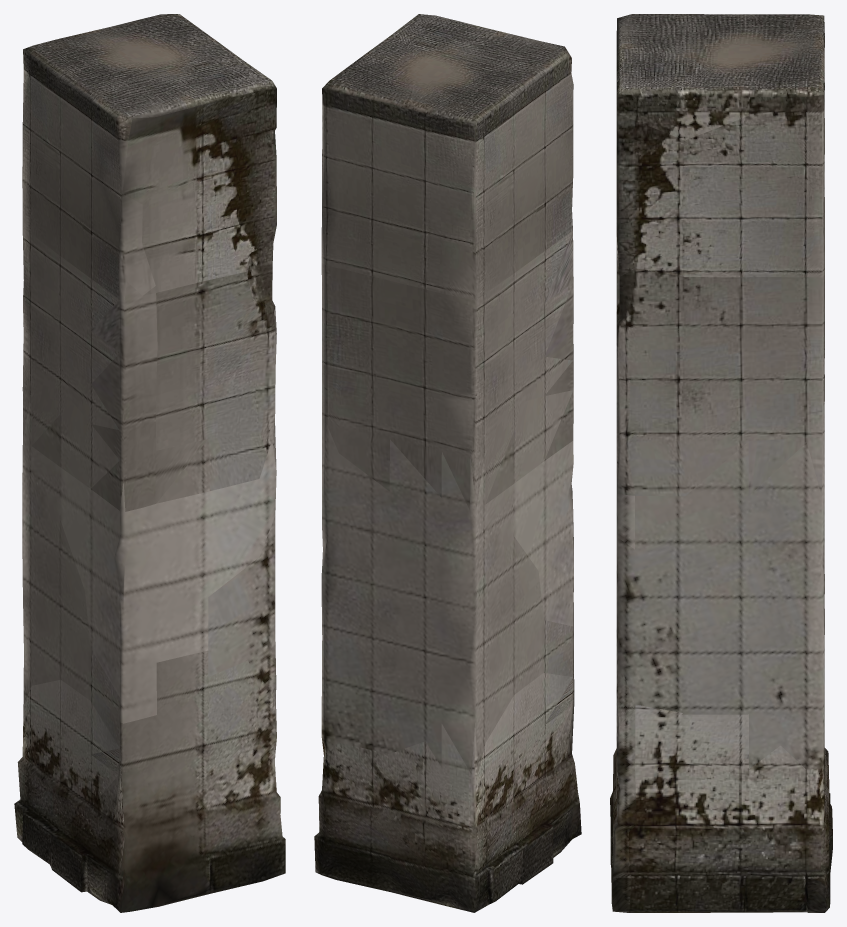
Rendered from sutun3.glb.
3 views of the same model, side by side, from view 1: azimuth 30°, elevation 25°; view 2: azimuth 150°, elevation 25°; view 3: azimuth 270°, elevation 25° (orthographic). The views are drawn at different scales.
Parts seen in each view (by area): view 1: tripo_node_1f91a4f5-8e6b-4793-ac41-afb8d5ba1a52.011; view 2: tripo_node_1f91a4f5-8e6b-4793-ac41-afb8d5ba1a52.011; view 3: tripo_node_1f91a4f5-8e6b-4793-ac41-afb8d5ba1a52.011.
Part boxes in pixels (x1,y1,x2,y2): tripo_node_1f91a4f5-8e6b-4793-ac41-afb8d5ba1a52.011: (14,14,285,912); tripo_node_1f91a4f5-8e6b-4793-ac41-afb8d5ba1a52.011: (314,14,581,912); tripo_node_1f91a4f5-8e6b-4793-ac41-afb8d5ba1a52.011: (610,14,832,912).
Bounding box in the file's own units: 0.2247 × 0.9964 × 0.2452.
Materials: 1 (1 with a texture image).
